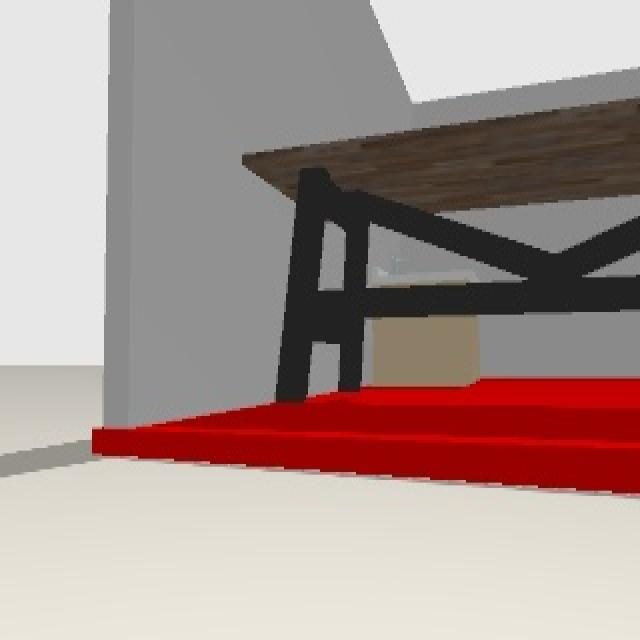dining: (241, 98, 640, 401)
